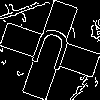U: (25, 25, 74, 81)
